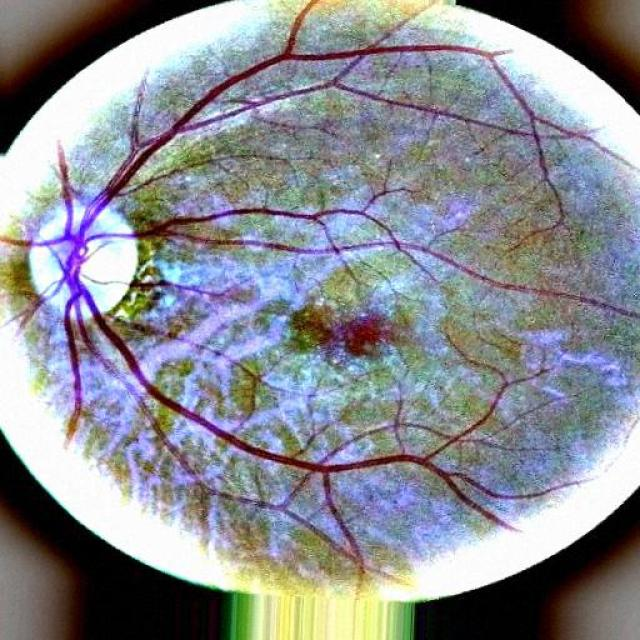Macula: (315, 304, 416, 370)
Nerves: (70, 6, 481, 481)
Optic Disk: (28, 201, 138, 323)
